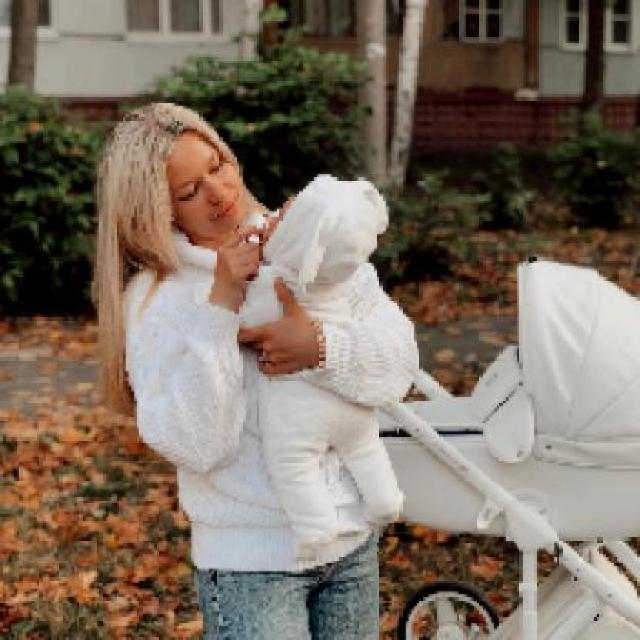child: (238, 172, 411, 558)
